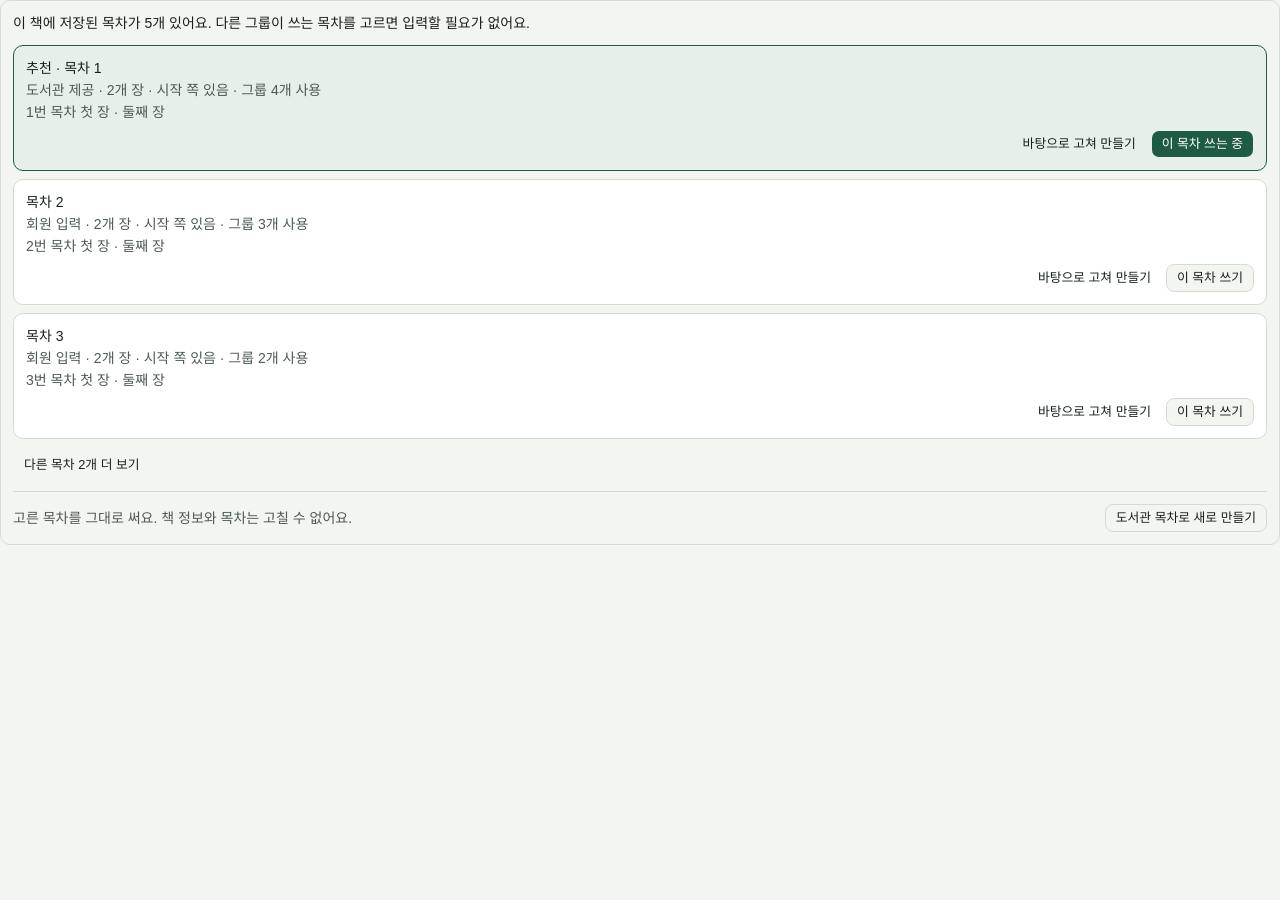
Test case: 저장된 목차 고르기 › 추천 순서로 3개만 보여 주고 나머지는 더 보기로 접는다
Check: the number of list items is 3, box [13,45,1267,171]; [13,179,1267,305]; [13,313,1267,439]
Check: the text "추천 · 목차 1" is shown, box [26,60,102,76]
Step 1. Click the button "다른 목차 2개 더 보기" → (82, 465), box [13,451,151,479]
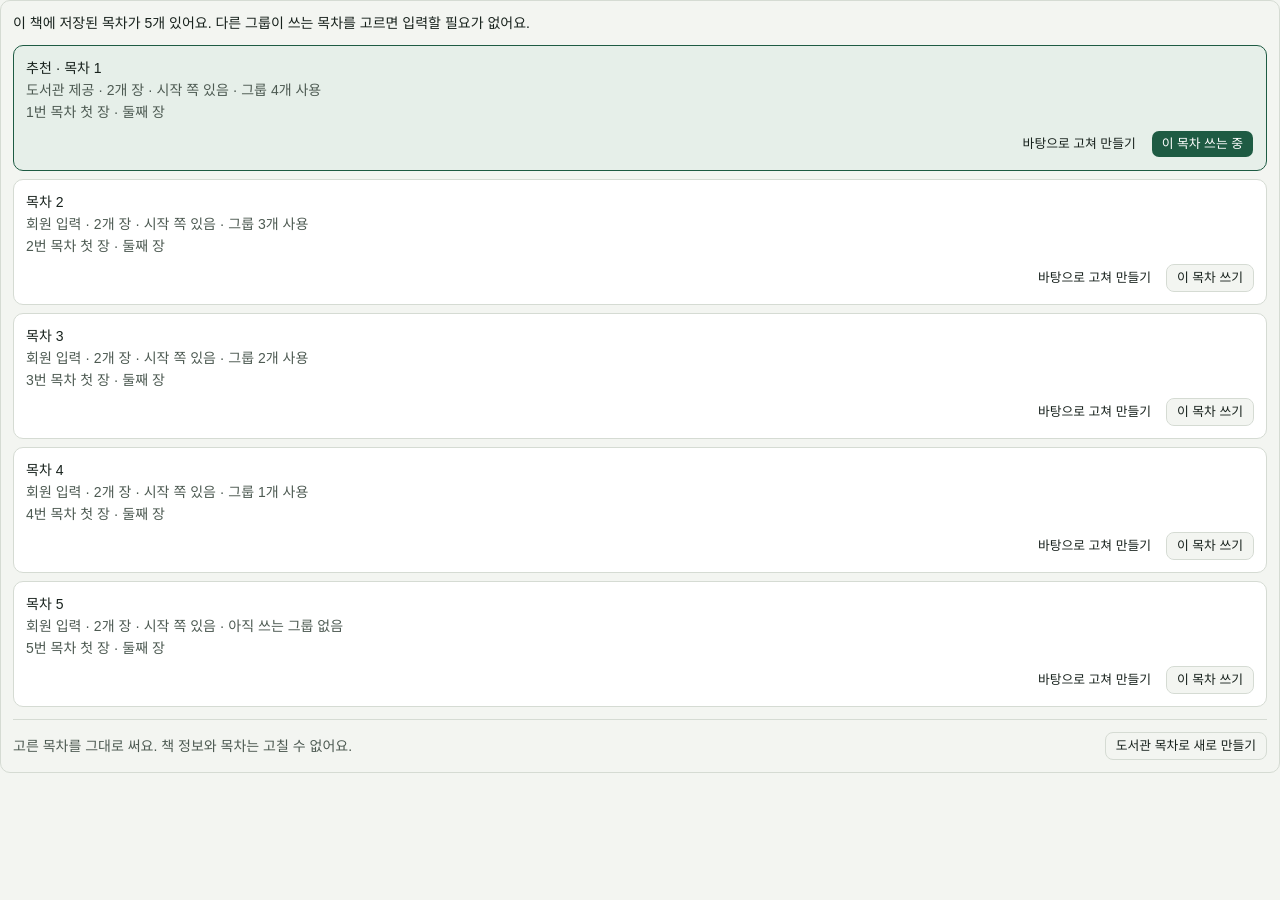
Check: the number of list items is 5, box [13,45,1267,171]; [13,179,1267,305]; [13,313,1267,439]; [13,447,1267,573]; [13,581,1267,707]
Check: the button "더 보기" is gone
